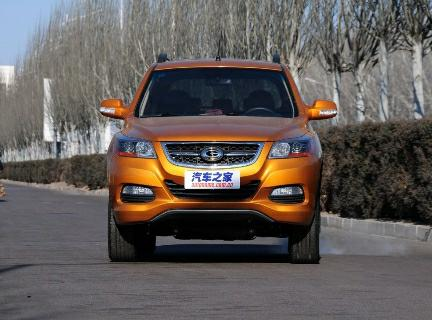car: (89, 44, 350, 277)
